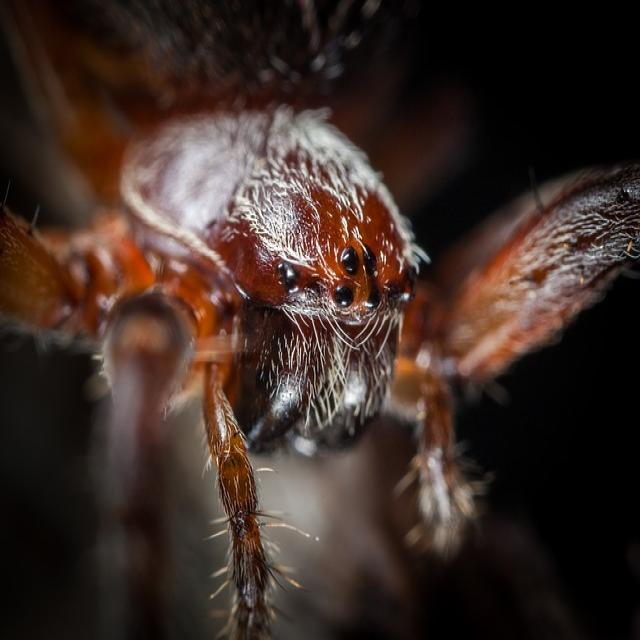spyder: (0, 0, 640, 637)
